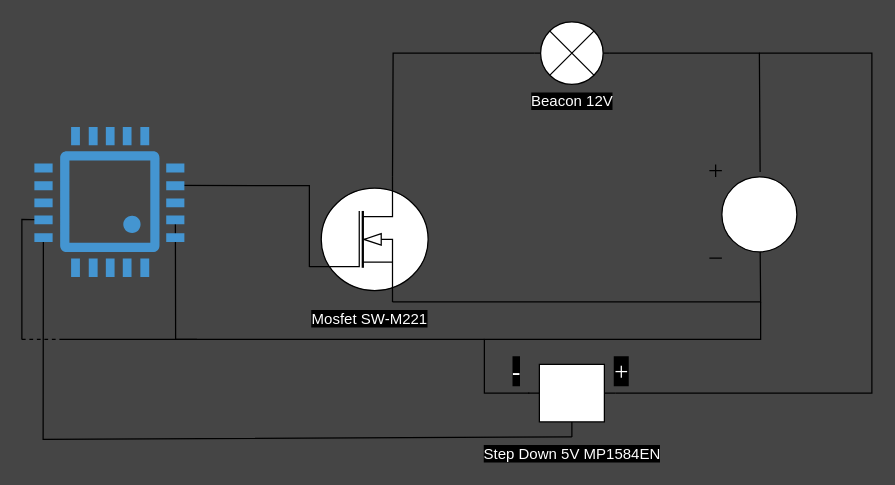
This 895x485 diagram has some shape labels left out. The box of each missing label's shape, as (x1, y1, x2, y2) in pixels:
NodeMcu: (34, 126, 184, 276)
Power source 12V: (708, 163, 797, 258)
